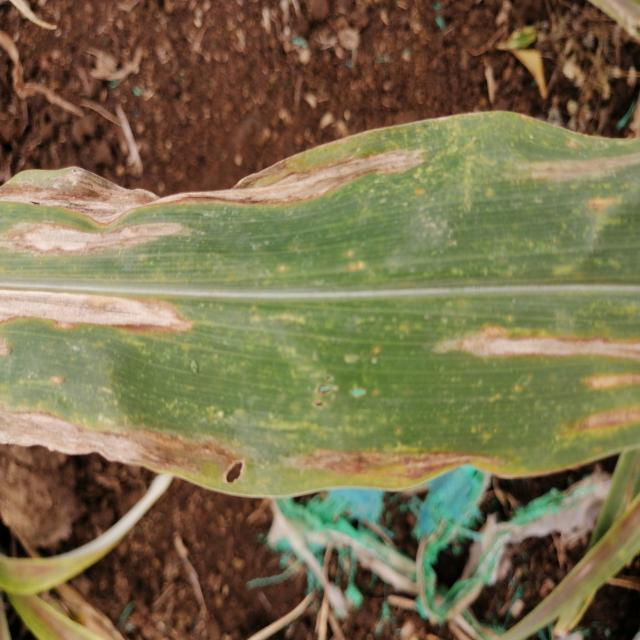Corn_Leaf_Blight: (0, 105, 640, 488)
